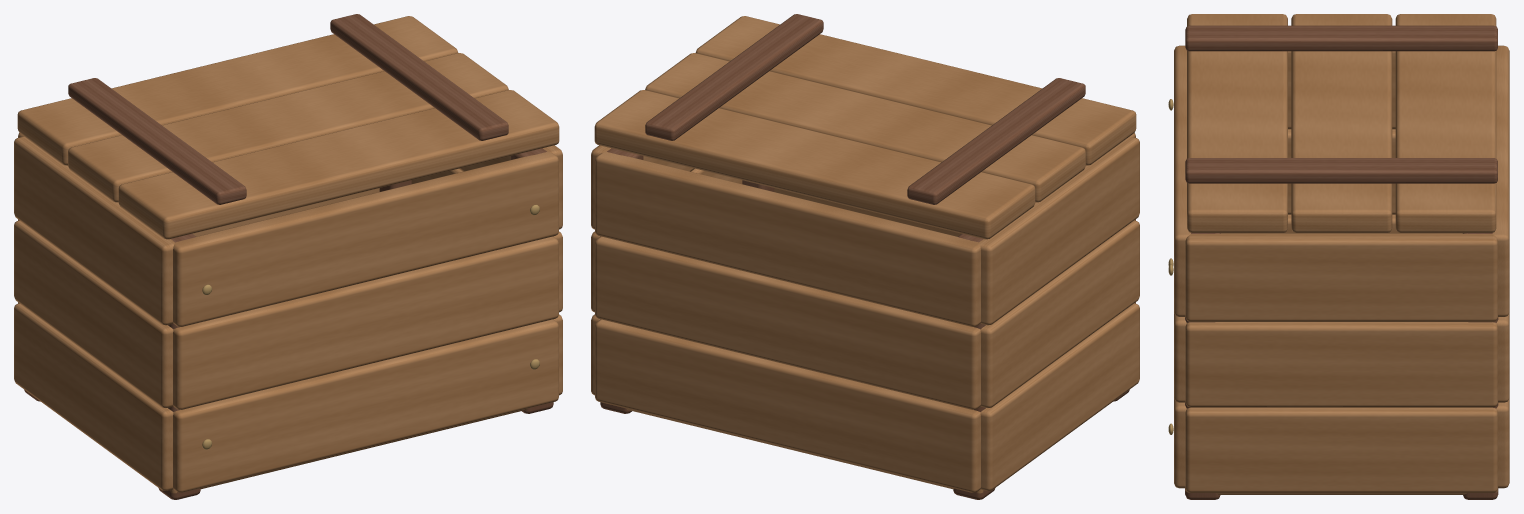
Rendered from 16-kiste-geschlossen.glb.
3 renders of one model, left to right at view 1: azimuth 30°, elevation 25°; view 2: azimuth 150°, elevation 25°; view 3: azimuth 270°, elevation 25°, orthographic. The views are drawn at different scales.
Parts seen in each view (by area): view 1: Long side plank.004, Long side plank.002, Long side plank, Lid plank 0, Lid plank 1, Lid plank 2, Short side plank.004, Short side plank.002, Short side plank, Lid crossbar, Lid crossbar.001, Long side plank.003 (+2 smaller); view 2: Long side plank.005, Long side plank.001, Long side plank.003, Lid plank 2, Lid plank 1, Lid plank 0, Short side plank.004, Short side plank.002, Short side plank, Lid crossbar, Lid crossbar.001, Long side plank.002 (+2 smaller); view 3: Short side plank.005, Short side plank.003, Short side plank.001, Lid plank 2, Lid plank 1, Lid plank 0, Lid crossbar, Lid crossbar.001, Long side plank.005, Long side plank.004, Long side plank.001, Long side plank (+6 smaller).
Boxes of the visible parts, x1,y1,x2,y2 form: Long side plank.004: (173, 151, 558, 326); Long side plank.002: (173, 236, 558, 409); Long side plank: (173, 319, 558, 492); Lid plank 0: (118, 90, 559, 239); Lid plank 1: (68, 53, 508, 202); Lid plank 2: (17, 16, 458, 165); Short side plank.004: (14, 136, 174, 325); Short side plank.002: (14, 220, 173, 408); Short side plank: (14, 303, 173, 490); Lid crossbar: (68, 78, 246, 204); Lid crossbar.001: (330, 14, 508, 140); Long side plank.003: (18, 188, 379, 236); Long side plank.005: (595, 151, 980, 326); Long side plank.001: (595, 319, 980, 492); Long side plank.003: (595, 236, 980, 409); Lid plank 2: (594, 90, 1035, 239); Lid plank 1: (645, 53, 1085, 202); Lid plank 0: (695, 16, 1136, 165); Short side plank.004: (979, 136, 1139, 325); Short side plank.002: (980, 220, 1139, 408); Short side plank: (980, 303, 1139, 490); Lid crossbar: (907, 78, 1085, 204); Lid crossbar.001: (645, 14, 823, 140); Long side plank.002: (774, 188, 1135, 236); Short side plank.005: (1185, 233, 1497, 321); Short side plank.003: (1185, 322, 1497, 407); Short side plank.001: (1185, 407, 1497, 492); Lid plank 2: (1395, 14, 1496, 232); Lid plank 1: (1291, 14, 1392, 232); Lid plank 0: (1187, 14, 1287, 232); Lid crossbar: (1185, 25, 1497, 51); Lid crossbar.001: (1185, 158, 1497, 183); Long side plank.005: (1492, 45, 1509, 316); Long side plank.004: (1174, 45, 1190, 316); Long side plank.001: (1496, 398, 1509, 488); Long side plank: (1174, 398, 1186, 488).
Size of the model in its own units: 0.735 by 0.5215 by 0.5235.
Materials: 3 (2 with a texture image).
